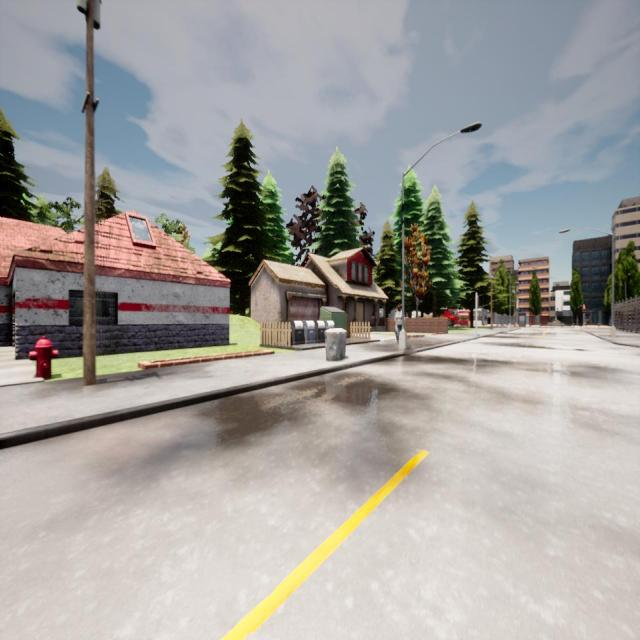Pedestrian: (394, 304, 403, 342)
Vehicle: (442, 310, 469, 326)
traffic_light: (476, 296, 479, 309), (582, 305, 586, 314)
